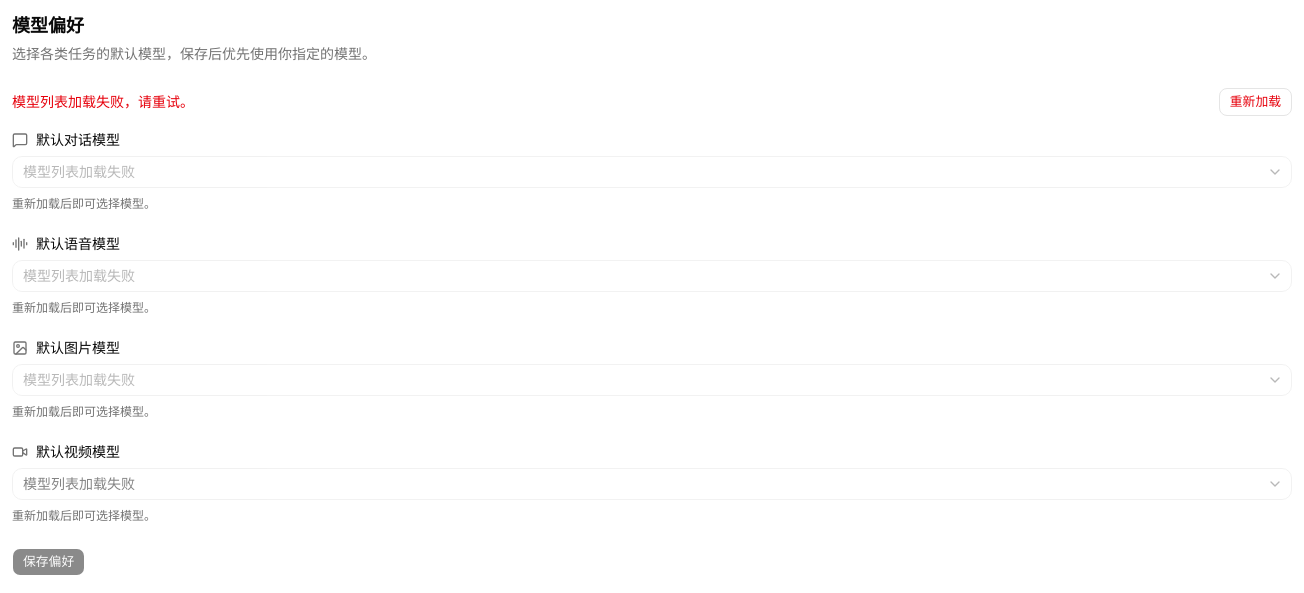
it: does not replace an unavailable saved model or persist a guessed choice after a catalog failure
Expected: the message "模型列表加载失败，请重试。 重新加载" is shown, [12,88,1292,116]
Expected: the button "保存偏好" is disabled, [12,548,85,576]
Click the button "重新加载" at (1255, 102), box [1219,88,1292,116]
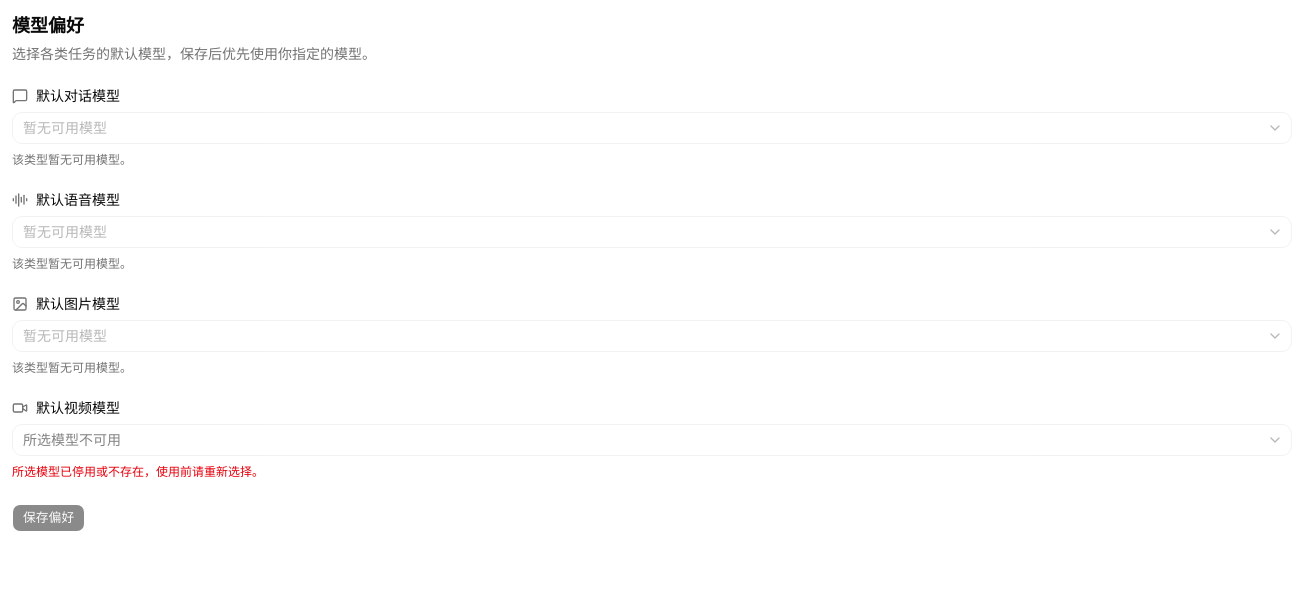
Expected: the dropdown named "默认视频模型" shows "所选模型不可用", [12,424,1292,456]
